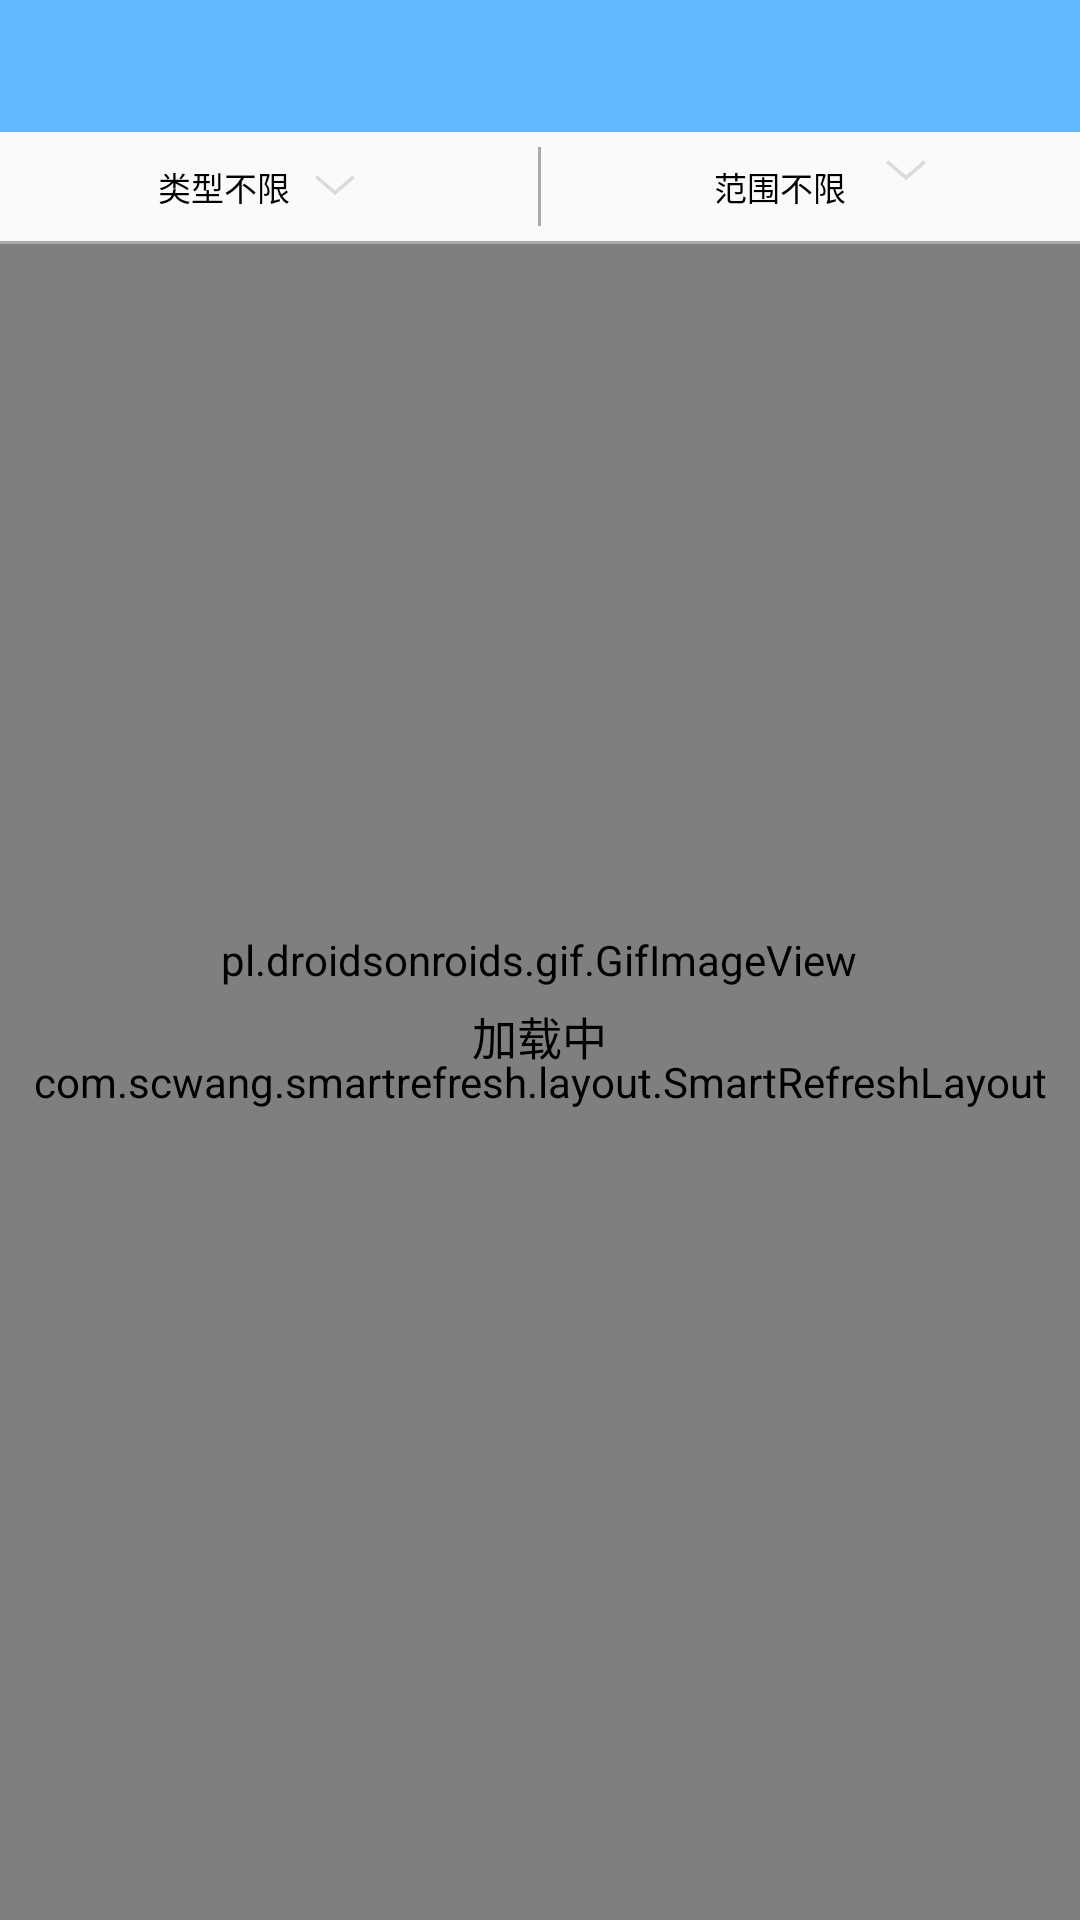

Point at icon controls on the screen. Image size 1080px×1920px, points as point (x, y).
down: point (905, 170), point (334, 185)
